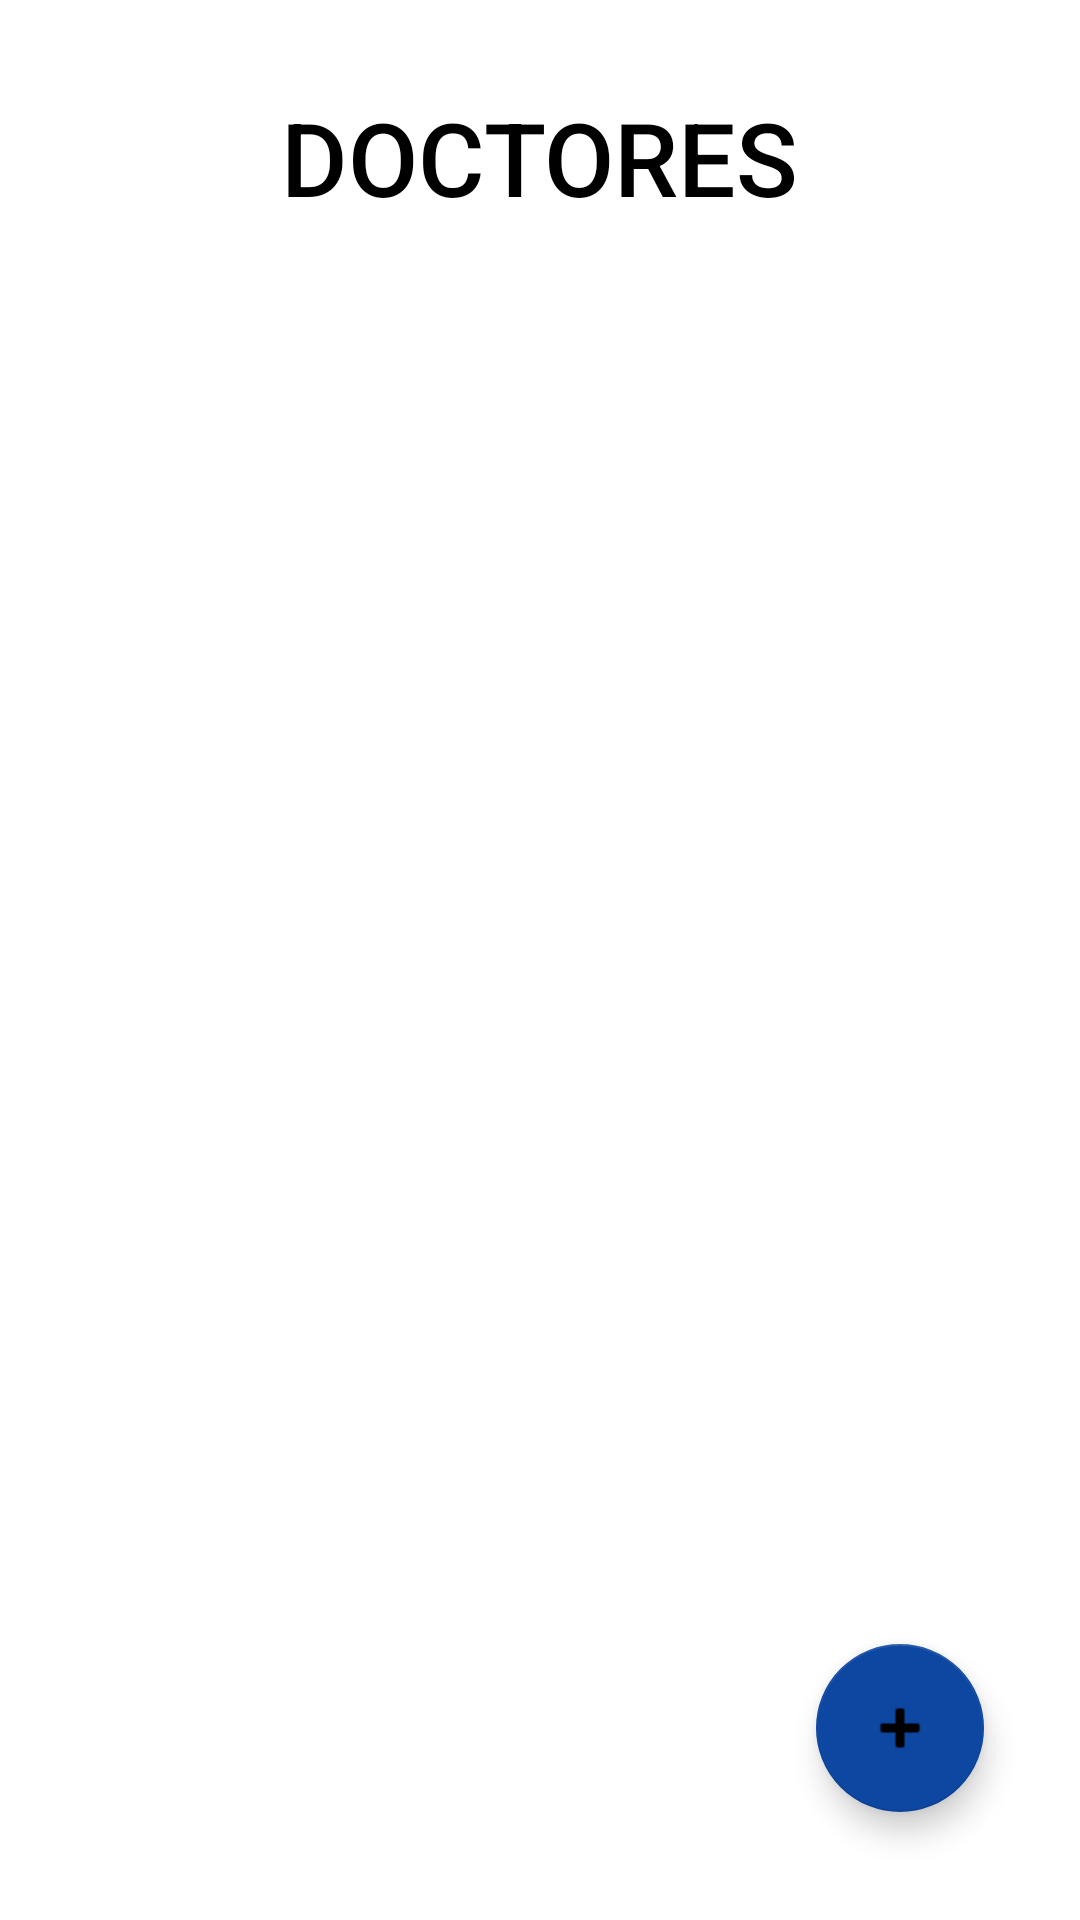

Icon bounding boxes for this 1080x1920 phone screenshot, format {"x1": x1, "y1": y1, "x2": x2, "y2": y2}:
add: {"x1": 816, "y1": 1644, "x2": 984, "y2": 1812}
